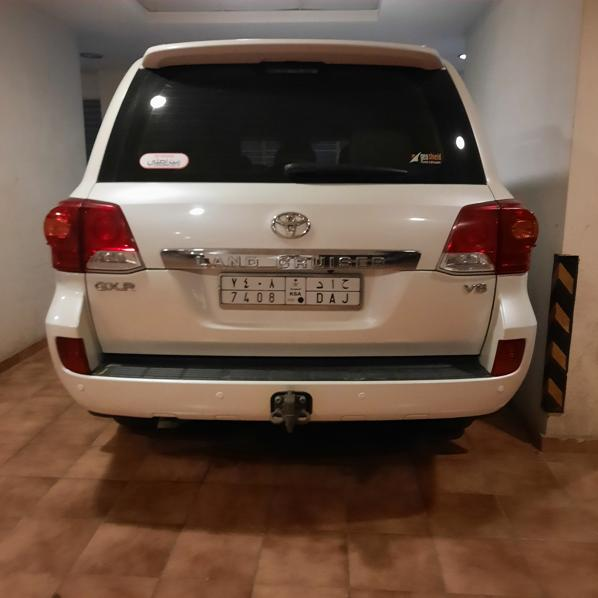numberplate: (219, 276, 365, 311)
